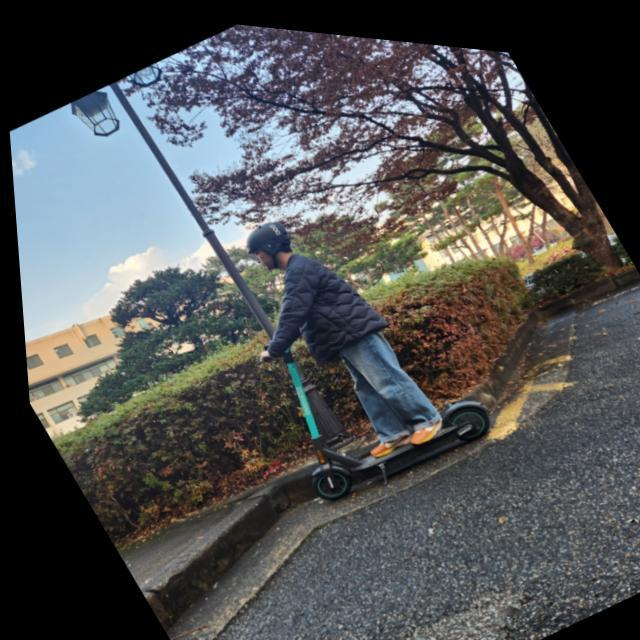Helmet: (243, 216, 300, 275)
